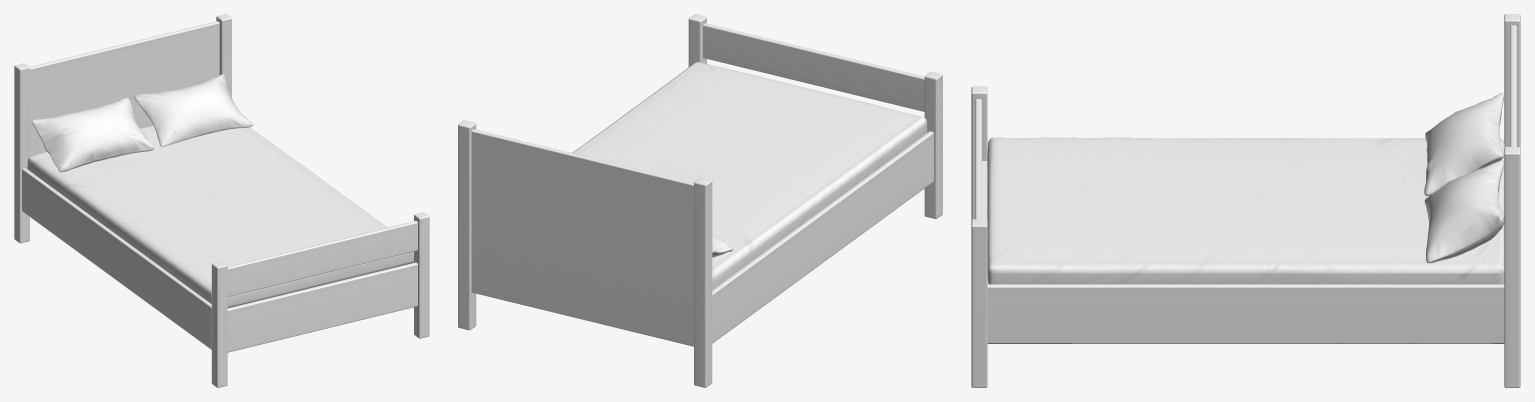
The model's file is Wooden Bed.glb.
3 views of the same model, side by side, from view 1: azimuth 30°, elevation 25°; view 2: azimuth 150°, elevation 25°; view 3: azimuth 270°, elevation 25° (orthographic). The views are drawn at different scales.
Visible parts, largest first — view 1: bed_2_blank.1; view 2: bed_2_blank.1; view 3: bed_2_blank.1.
Part boxes in pixels (x1,y1,x2,y2): bed_2_blank.1: (14, 14, 429, 387); bed_2_blank.1: (458, 14, 942, 387); bed_2_blank.1: (971, 14, 1520, 387).
Size of the model in its own units: 0.2696 by 0.2112 by 0.4466.
1 material, 1 textured.
